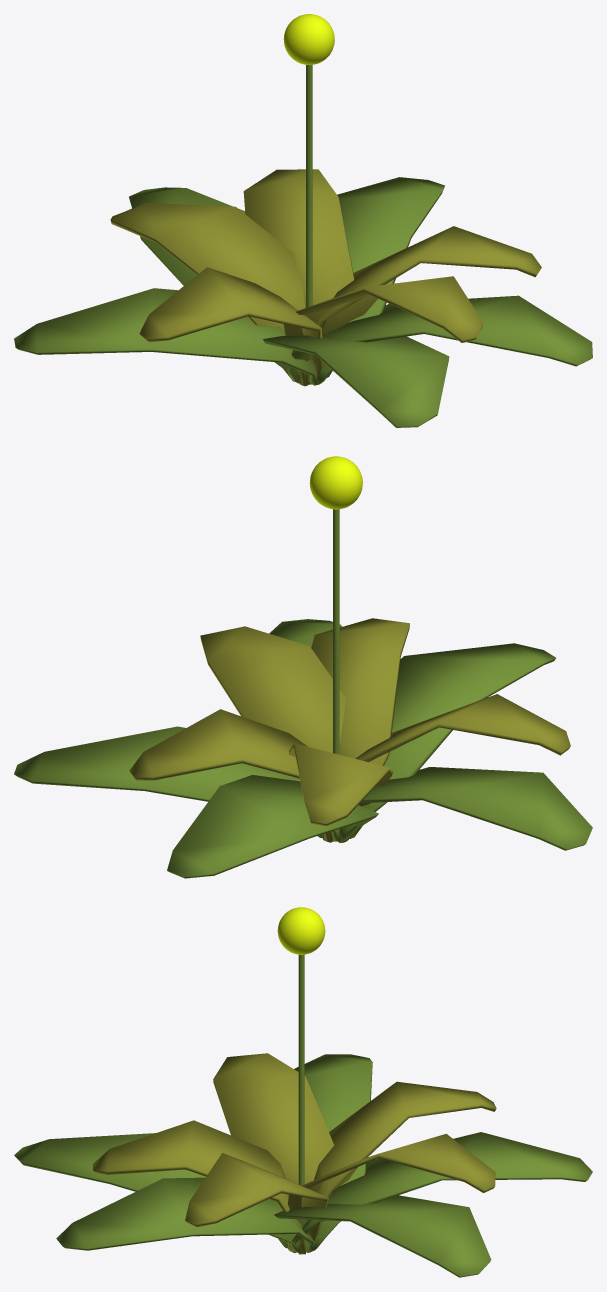
Rendered from weed_yellow.fbx.
3 renders of one model, top to bottom at view 1: azimuth 30°, elevation 25°; view 2: azimuth 150°, elevation 25°; view 3: azimuth 270°, elevation 25°, orthographic. The views are drawn at different scales.
Visible parts, largest first — view 1: single weed; view 2: single weed; view 3: single weed.
Boxes of the visible parts, left/top/right/bottom form: single weed: left=14, top=14, right=592, bottom=427; single weed: left=14, top=456, right=592, bottom=878; single weed: left=14, top=907, right=592, bottom=1277.
Bounding box in the file's own units: 103 × 74.06 × 114.
